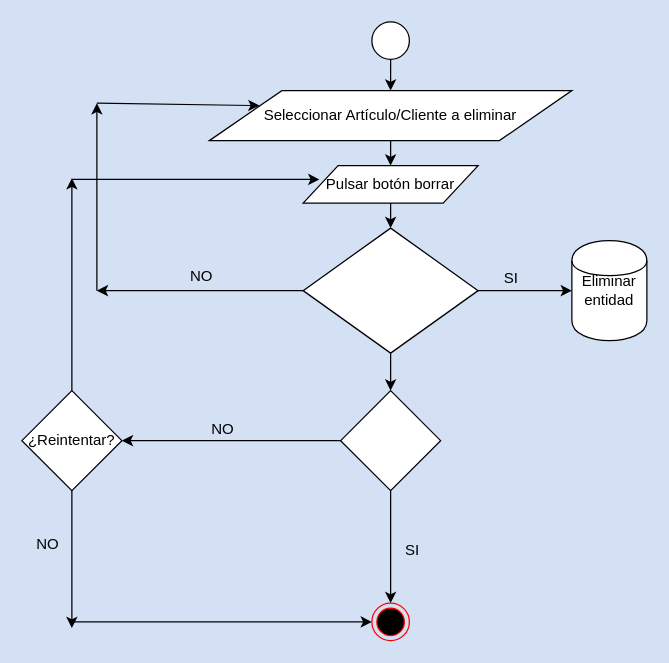
This 669x663 diagram has some shape labels left out. Here are the shapes that lost their labels. From the top down, the centre of each, then its label:
At point (390, 290): "¿La entidad a borrar es la correcta? (confirmación )".
At point (390, 440): "¿Eliminado correctamente?".
